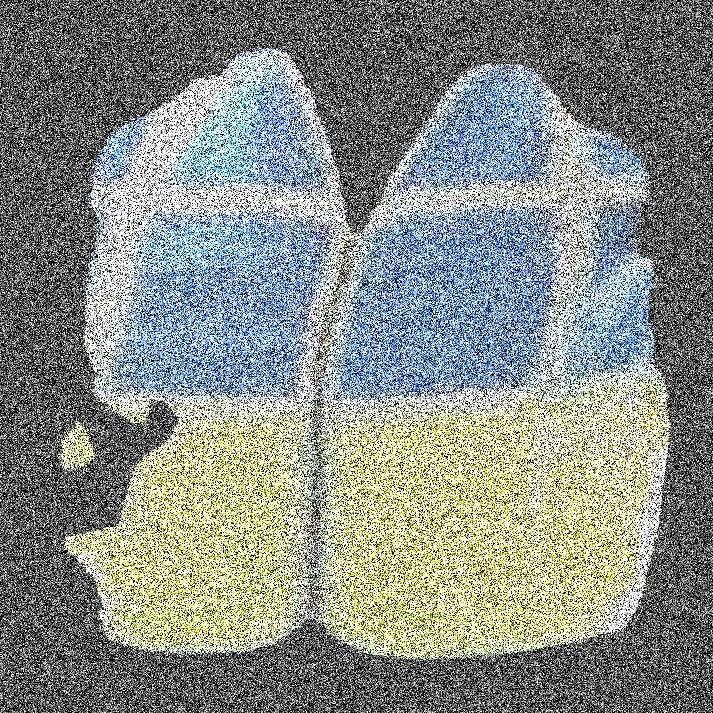Colete: (112, 0, 621, 712)
